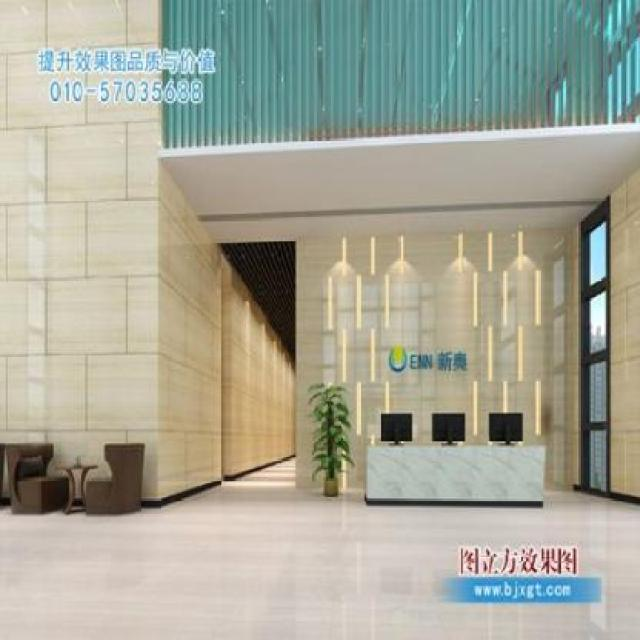frontdesk: (369, 408, 553, 516)
